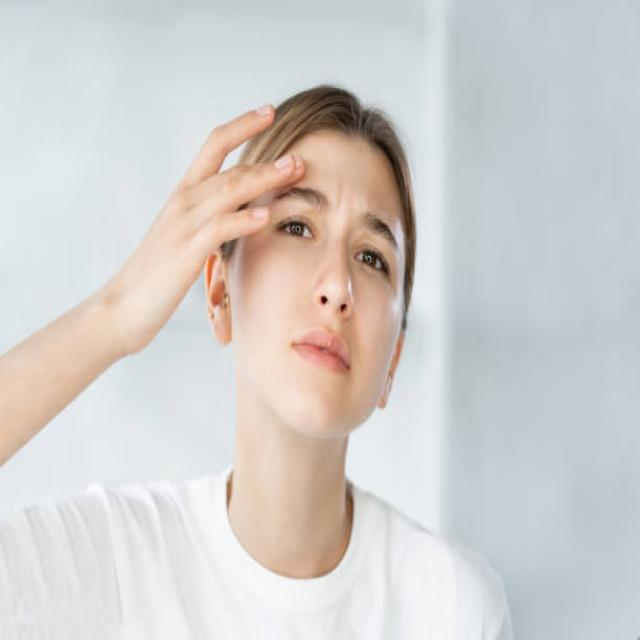Oily-Skin: (13, 211, 281, 315), (330, 174, 360, 218), (378, 333, 439, 354), (308, 392, 337, 431), (262, 279, 282, 315)
